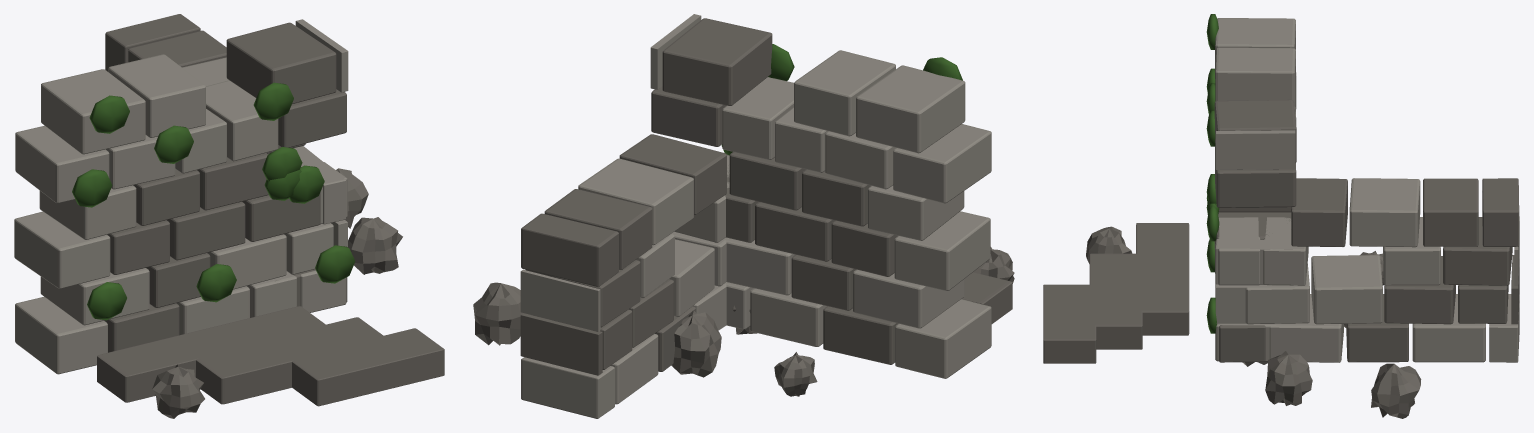
Rendered from ruine_ecke.glb.
3 views of the same model, side by side, from view 1: azimuth 30°, elevation 25°; view 2: azimuth 150°, elevation 25°; view 3: azimuth 270°, elevation 25° (orthographic). The views are drawn at different scales.
Visible parts, largest first — view 1: Cube; view 2: Cube; view 3: Cube.
Boxes of the visible parts, left/top/right/bottom form: Cube: left=14, top=14, right=444, bottom=418; Cube: left=473, top=14, right=1014, bottom=418; Cube: left=1043, top=14, right=1519, bottom=418.
Size of the model in its own units: 3.17 by 2.14 by 3.59.
